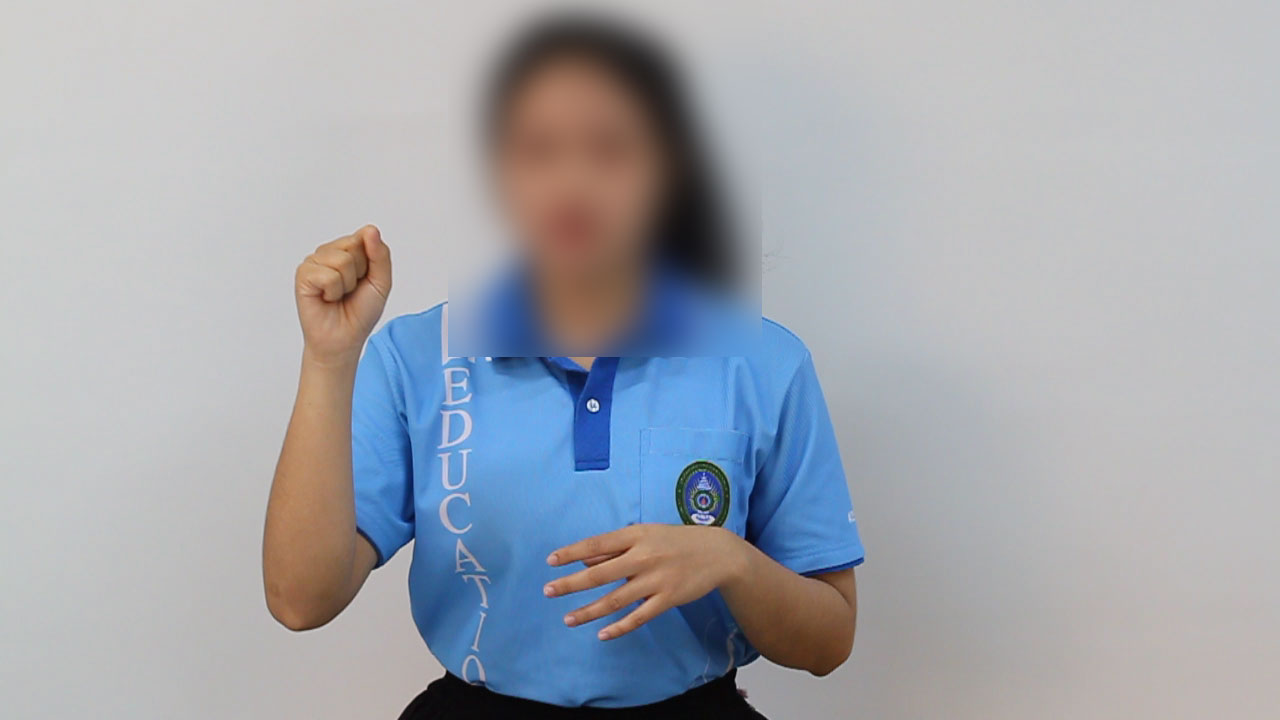sor: (282, 208, 398, 363)
